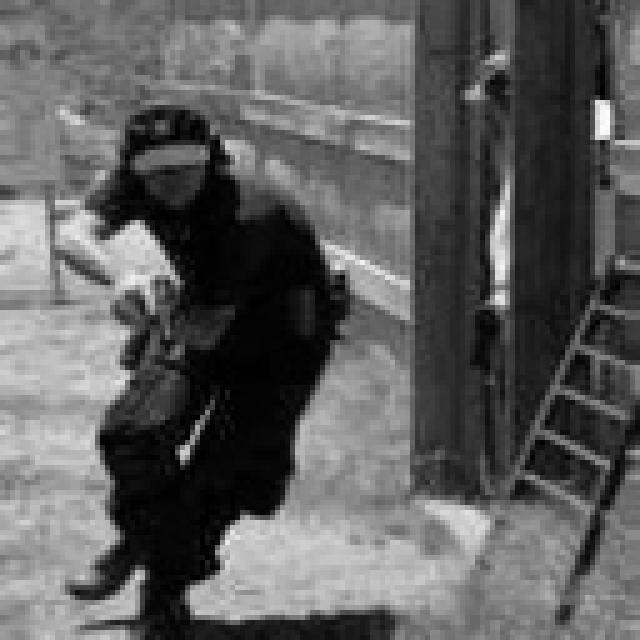Rifle: (91, 247, 221, 391)
